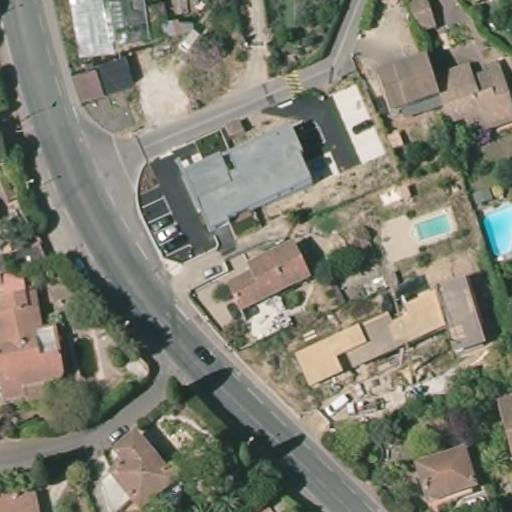pool: (477, 202, 511, 263), (407, 210, 457, 245)
